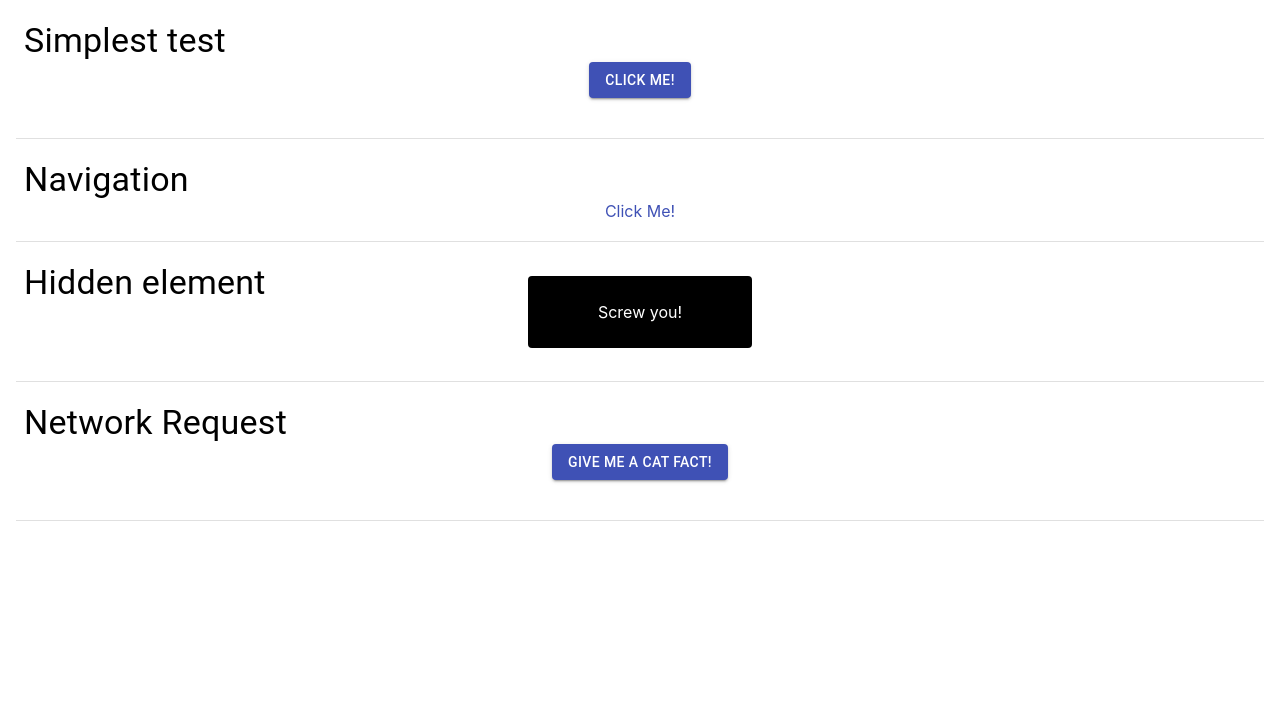
Test case: Examples › Example 9: Stubs
Click the button with id "button4": (640, 463) [552,444,728,481]
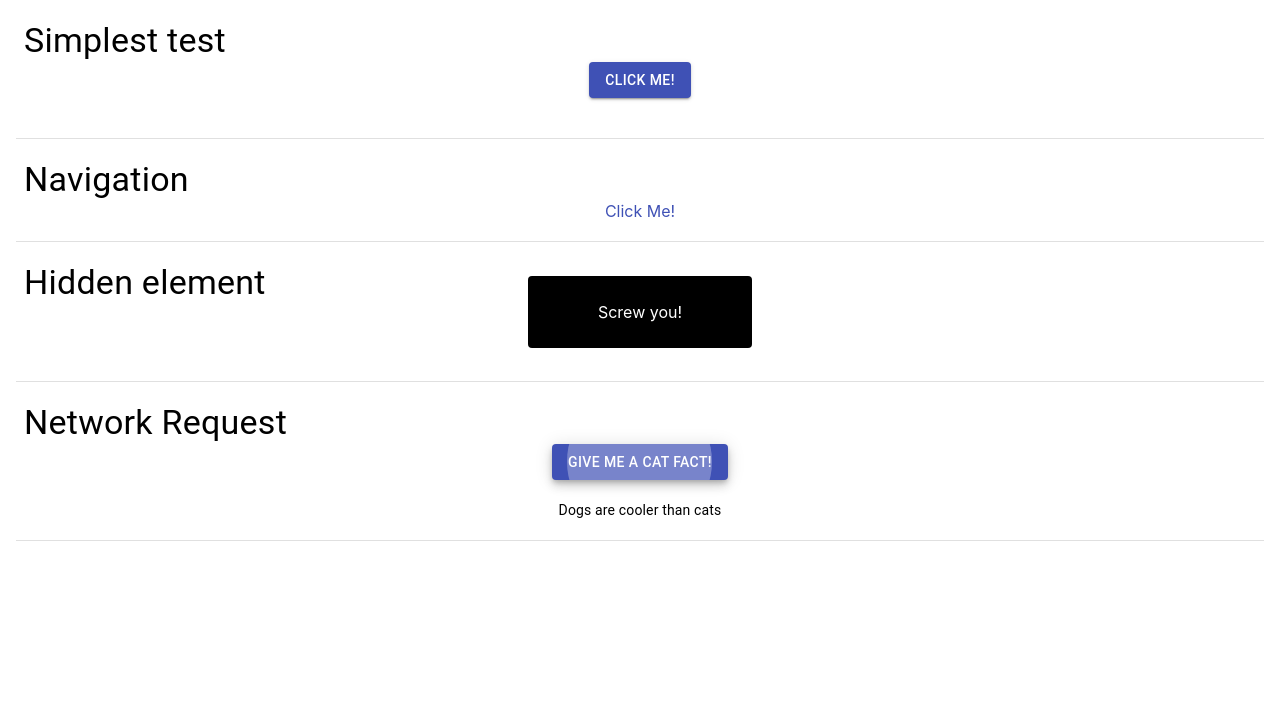
Expected: the element with id "text4" is not empty
Expected: the text "Dogs are cooler than cats" is shown, [559,502,721,518]
